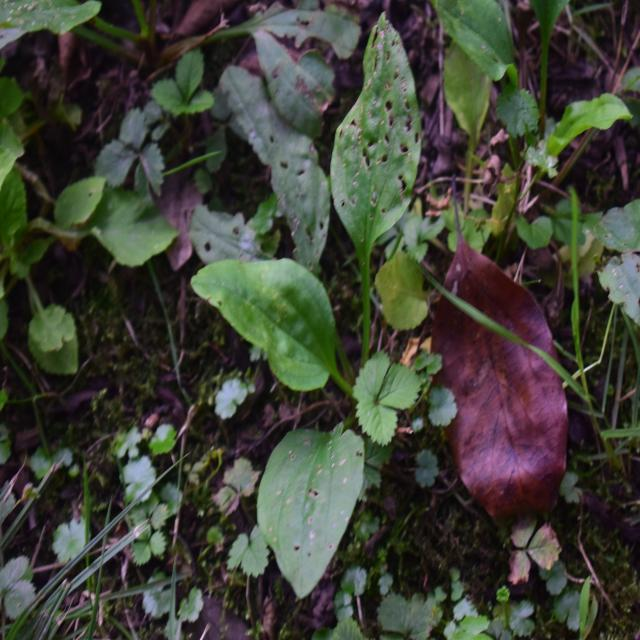plantain: (238, 64, 416, 542)
